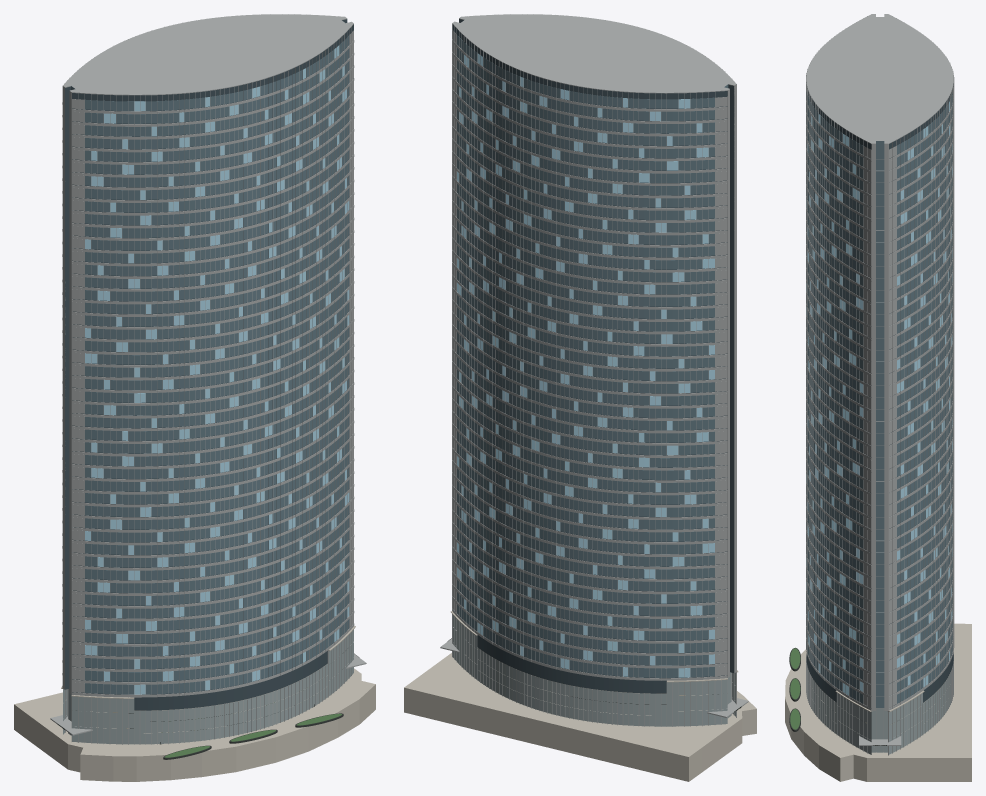
The model's file is wacker_71.glb.
3 renders of one model, left to right at view 1: azimuth 30°, elevation 25°; view 2: azimuth 150°, elevation 25°; view 3: azimuth 270°, elevation 25°, orthographic. The views are drawn at different scales.
Visible parts, largest first — view 1: Blue grey curtain vision glass, Silver horizontal bands and end blades, Dark curtain backing and mechanical louvers, Night occupied curtain vision glass, Pale granite paving and lobby ceiling, Clear reception and curved lobby glazing, Garden turf and bamboo leaves, Black granite core and raised planters; view 2: Blue grey curtain vision glass, Silver horizontal bands and end blades, Dark curtain backing and mechanical louvers, Night occupied curtain vision glass, Pale granite paving and lobby ceiling, Clear reception and curved lobby glazing; view 3: Silver horizontal bands and end blades, Blue grey curtain vision glass, Pale granite paving and lobby ceiling, Night occupied curtain vision glass, Clear reception and curved lobby glazing, Dark curtain backing and mechanical louvers, Garden turf and bamboo leaves.
Part boxes in pixels (x1,y1,x2,y2): Blue grey curtain vision glass: [71, 35, 349, 694]; Silver horizontal bands and end blades: [50, 14, 366, 744]; Dark curtain backing and mechanical louvers: [65, 19, 353, 710]; Night occupied curtain vision glass: [85, 45, 349, 694]; Pale granite paving and lobby ceiling: [14, 626, 375, 781]; Clear reception and curved lobby glazing: [63, 629, 353, 744]; Garden turf and bamboo leaves: [162, 713, 341, 757]; Black granite core and raised planters: [57, 653, 359, 759]; Blue grey curtain vision glass: [457, 35, 728, 677]; Silver horizontal bands and end blades: [440, 14, 748, 726]; Dark curtain backing and mechanical louvers: [452, 19, 734, 693]; Night occupied curtain vision glass: [457, 53, 714, 677]; Pale granite paving and lobby ceiling: [404, 611, 756, 781]; Clear reception and curved lobby glazing: [452, 615, 735, 726]; Silver horizontal bands and end blades: [806, 14, 954, 755]; Blue grey curtain vision glass: [806, 91, 952, 707]; Pale granite paving and lobby ceiling: [785, 623, 971, 781]; Night occupied curtain vision glass: [806, 101, 952, 695]; Clear reception and curved lobby glazing: [806, 656, 953, 754]; Dark curtain backing and mechanical louvers: [806, 82, 953, 708]; Garden turf and bamboo leaves: [790, 648, 800, 729].
Bounding box in the file's own units: 98.15 × 215 × 57.27.
